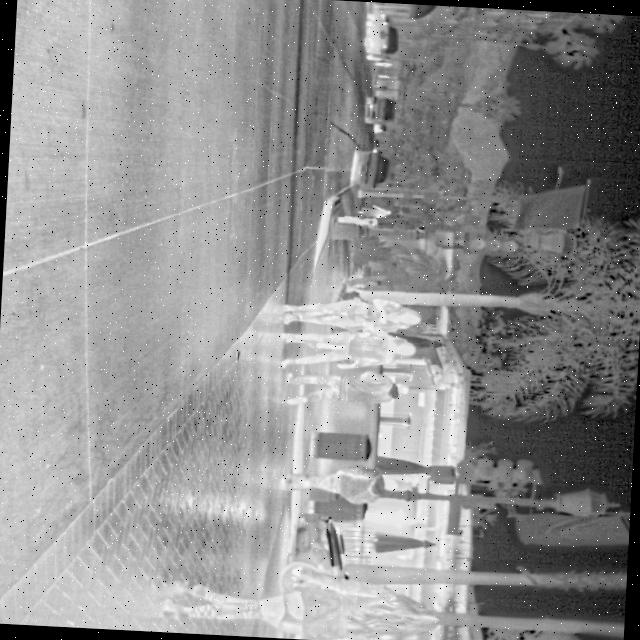Pedestrian: (171, 561, 446, 640), (276, 322, 421, 376), (279, 289, 428, 339), (282, 365, 412, 416), (276, 461, 402, 507), (353, 203, 392, 220)
Vehicle: (349, 147, 394, 190), (360, 18, 400, 64), (362, 94, 398, 126)
